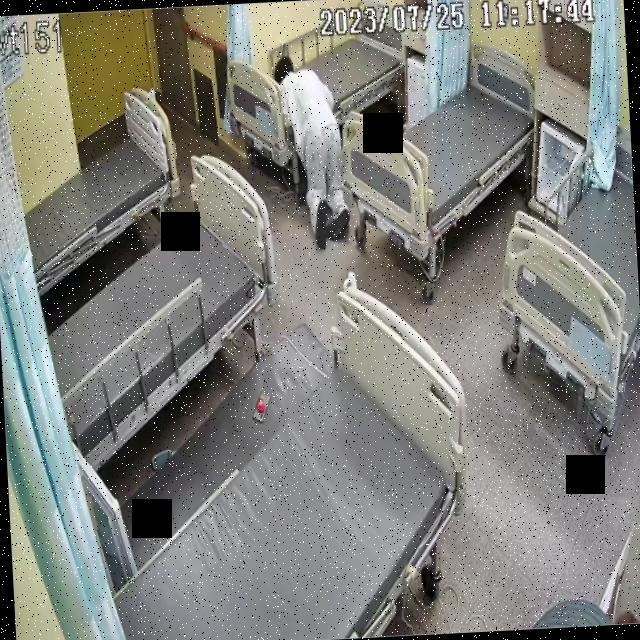bed: (97, 291, 469, 640), (34, 157, 282, 462), (494, 125, 640, 425), (335, 50, 540, 242), (16, 86, 185, 292), (228, 12, 408, 166)
fall: (272, 50, 348, 255)
patient: (273, 46, 351, 254)
